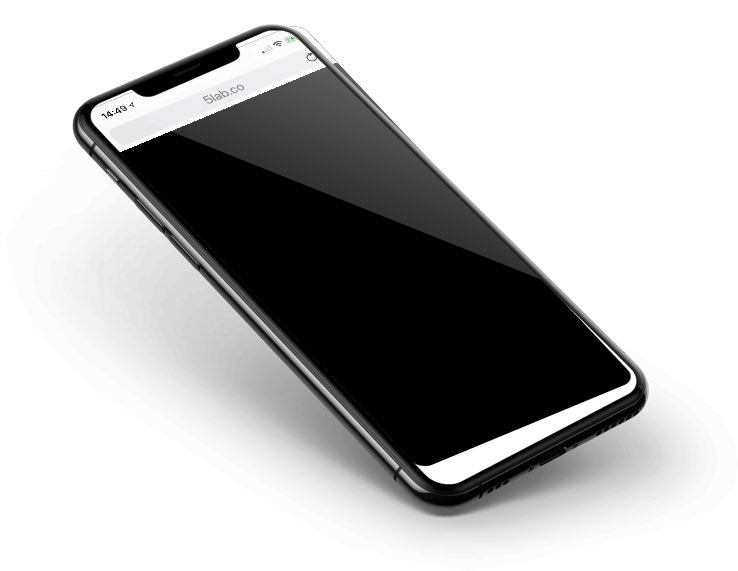phone: (69, 16, 655, 523)
